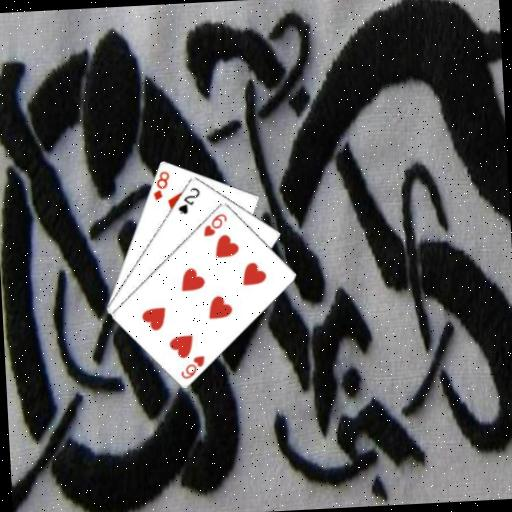2S: (174, 184, 203, 217)
6H: (200, 210, 230, 238), (177, 352, 207, 380)
8D: (149, 168, 172, 203)
